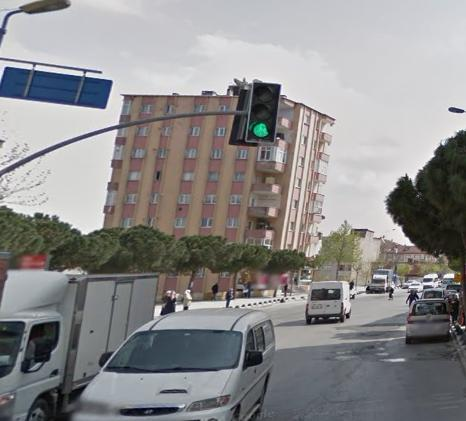greenlight: (243, 81, 283, 148)
